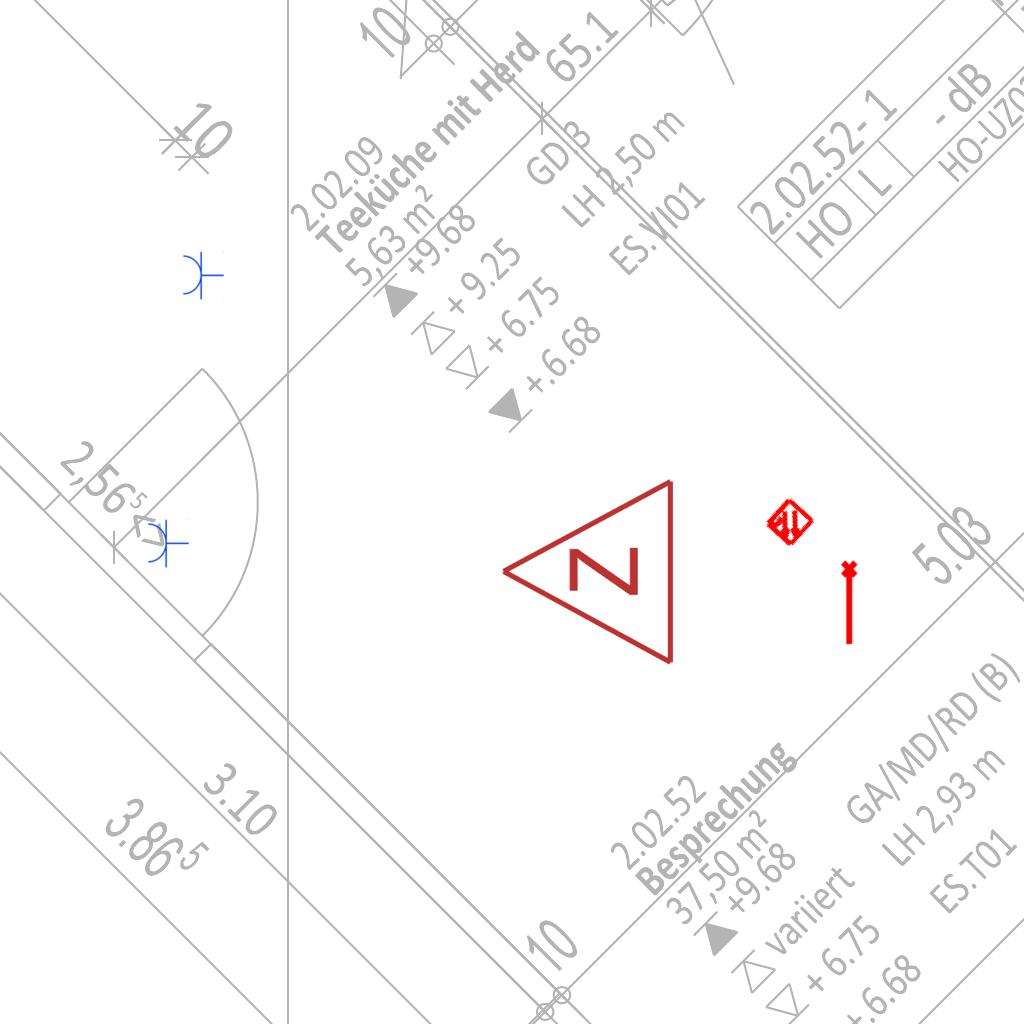ASR_Ansaugoeffnung: (839, 559, 862, 647)
OT_Multisensormelder_(Kombination_RMO_WMD): (749, 483, 829, 563)
Schukosteckdose_einfach: (146, 518, 189, 568), (181, 250, 224, 300)
Zimmersignalleuchte: (488, 476, 688, 672)
